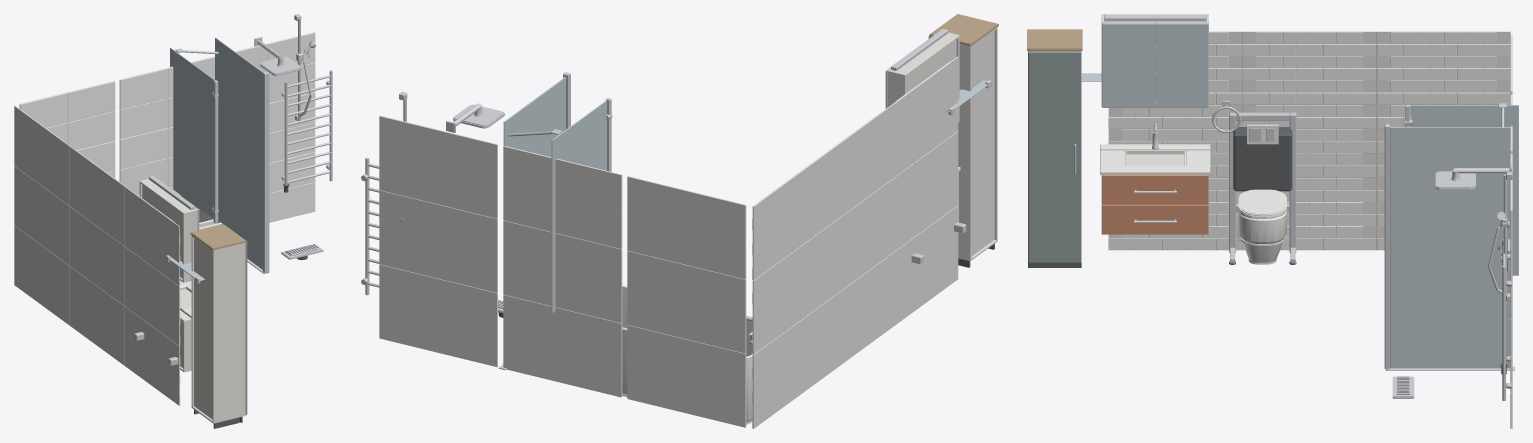
Rendered from bathroom.glb.
3 renders of one model, left to right at view 1: azimuth 30°, elevation 25°; view 2: azimuth 150°, elevation 25°; view 3: azimuth 270°, elevation 25°, orthographic. The views are drawn at different scales.
Visible parts, largest first — view 1: 036-bathroom-tall-cabinet/0, 022-wet-room-panel/1, 021-bath-screen/screen, 002-tile-panel-large-format/1, 005-tile-panel-large-format/1, 011-tile-panel-metro/0, 014-tile-panel-metro/0, 013-tile-panel-metro/0, 012-tile-panel-metro/0, 009-tile-panel-metro/0, 010-tile-panel-metro/0, 016-tile-panel-metro/0 (+19 smaller); view 2: 002-tile-panel-large-format/0, 008-tile-panel-large-format/0, 000-tile-panel-large-format/0, 001-tile-panel-large-format/0, 006-tile-panel-large-format/0, 003-tile-panel-large-format/0, 007-tile-panel-large-format/0, 005-tile-panel-large-format/0, 004-tile-panel-large-format/0, 036-bathroom-tall-cabinet/0, 011-tile-panel-metro/0, 009-tile-panel-metro/0 (+14 smaller); view 3: 022-wet-room-panel/1, 036-bathroom-tall-cabinet/door-left/front, 014-tile-panel-metro/1, 011-tile-panel-metro/1, 013-tile-panel-metro/1, 012-tile-panel-metro/1, 016-tile-panel-metro/1, 035-mirror-cabinet/door-left, 035-mirror-cabinet/door-right, 021-bath-screen/screen, 029-cistern-frame-concealed/1, 015-tile-panel-metro/1 (+26 smaller).
Part boxes in pixels (box(x1,y1,x2,y2)): 036-bathroom-tall-cabinet/0: box(191, 235, 245, 423); 022-wet-room-panel/1: box(215, 37, 262, 269); 021-bath-screen/screen: box(170, 47, 214, 218); 002-tile-panel-large-format/1: box(20, 81, 115, 150); 005-tile-panel-large-format/1: box(120, 57, 214, 139); 011-tile-panel-metro/0: box(14, 106, 69, 205); 014-tile-panel-metro/0: box(69, 146, 124, 245); 013-tile-panel-metro/0: box(69, 206, 124, 305); 012-tile-panel-metro/0: box(69, 266, 124, 365); 009-tile-panel-metro/0: box(14, 225, 69, 324); 010-tile-panel-metro/0: box(14, 166, 69, 265); 016-tile-panel-metro/0: box(124, 246, 179, 345); 002-tile-panel-large-format/0: box(627, 176, 745, 279); 008-tile-panel-large-format/0: box(379, 115, 497, 218); 000-tile-panel-large-format/0: box(627, 325, 745, 427); 001-tile-panel-large-format/0: box(627, 251, 745, 353); 006-tile-panel-large-format/0: box(379, 264, 497, 366); 003-tile-panel-large-format/0: box(503, 294, 621, 397); 007-tile-panel-large-format/0: box(379, 190, 497, 292); 005-tile-panel-large-format/0: box(503, 146, 621, 248); 004-tile-panel-large-format/0: box(503, 220, 621, 323); 036-bathroom-tall-cabinet/0: box(958, 27, 997, 261); 011-tile-panel-metro/0: box(752, 156, 821, 280); 009-tile-panel-metro/0: box(752, 305, 821, 428); 022-wet-room-panel/1: box(1390, 127, 1510, 368); 036-bathroom-tall-cabinet/door-left/front: box(1028, 52, 1081, 262); 014-tile-panel-metro/1: box(1243, 32, 1376, 104); 011-tile-panel-metro/1: box(1377, 32, 1510, 104); 013-tile-panel-metro/1: box(1243, 105, 1376, 177); 012-tile-panel-metro/1: box(1243, 178, 1376, 250); 016-tile-panel-metro/1: box(1108, 105, 1242, 177); 035-mirror-cabinet/door-left: box(1102, 23, 1155, 107); 035-mirror-cabinet/door-right: box(1155, 23, 1208, 107); 021-bath-screen/screen: box(1411, 105, 1518, 275); 029-cistern-frame-concealed/1: box(1229, 127, 1296, 264); 015-tile-panel-metro/1: box(1108, 178, 1242, 250).
Size of the model in its own units: 3.4 by 2.02 by 3.67.
